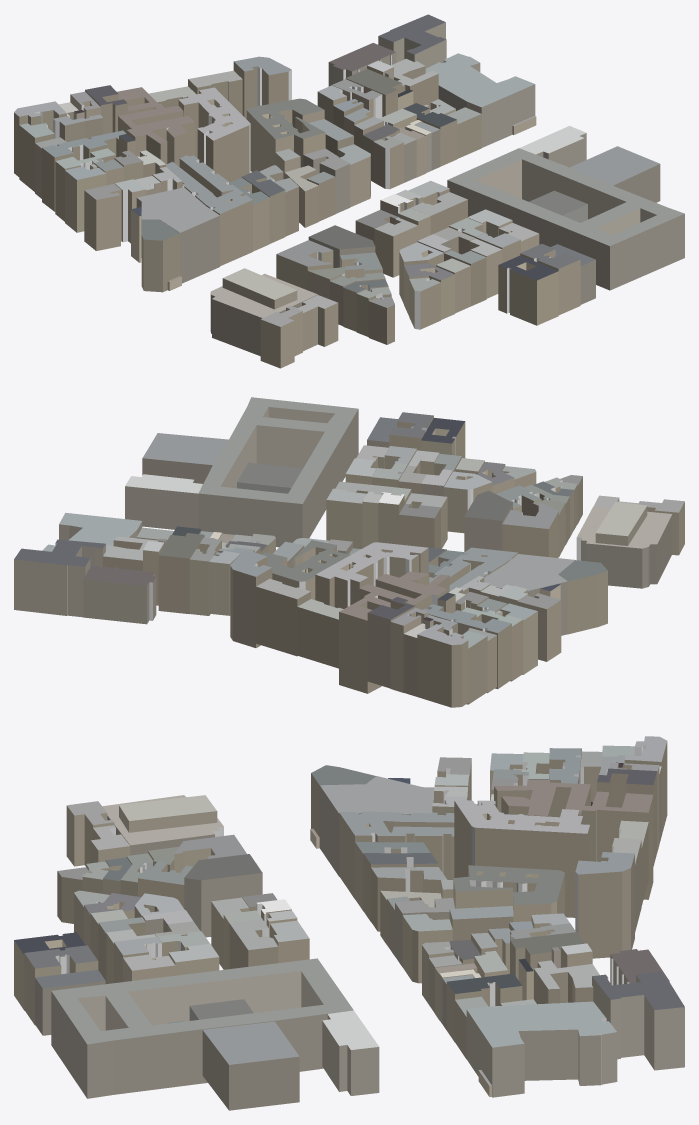
3 views of the same model, one above another, from view 1: azimuth 30°, elevation 25°; view 2: azimuth 150°, elevation 25°; view 3: azimuth 270°, elevation 25° (orthographic). The views are drawn at different scales.
Parts seen in each view (by area): view 1: tuile; view 2: tuile; view 3: tuile.
Boxes of the visible parts, x1,y1,x2,y2 form: tuile: (14, 14, 684, 368); tuile: (14, 397, 684, 707); tuile: (14, 736, 684, 1110).
Bounding box in the file's own units: 273 × 50.42 × 270.
